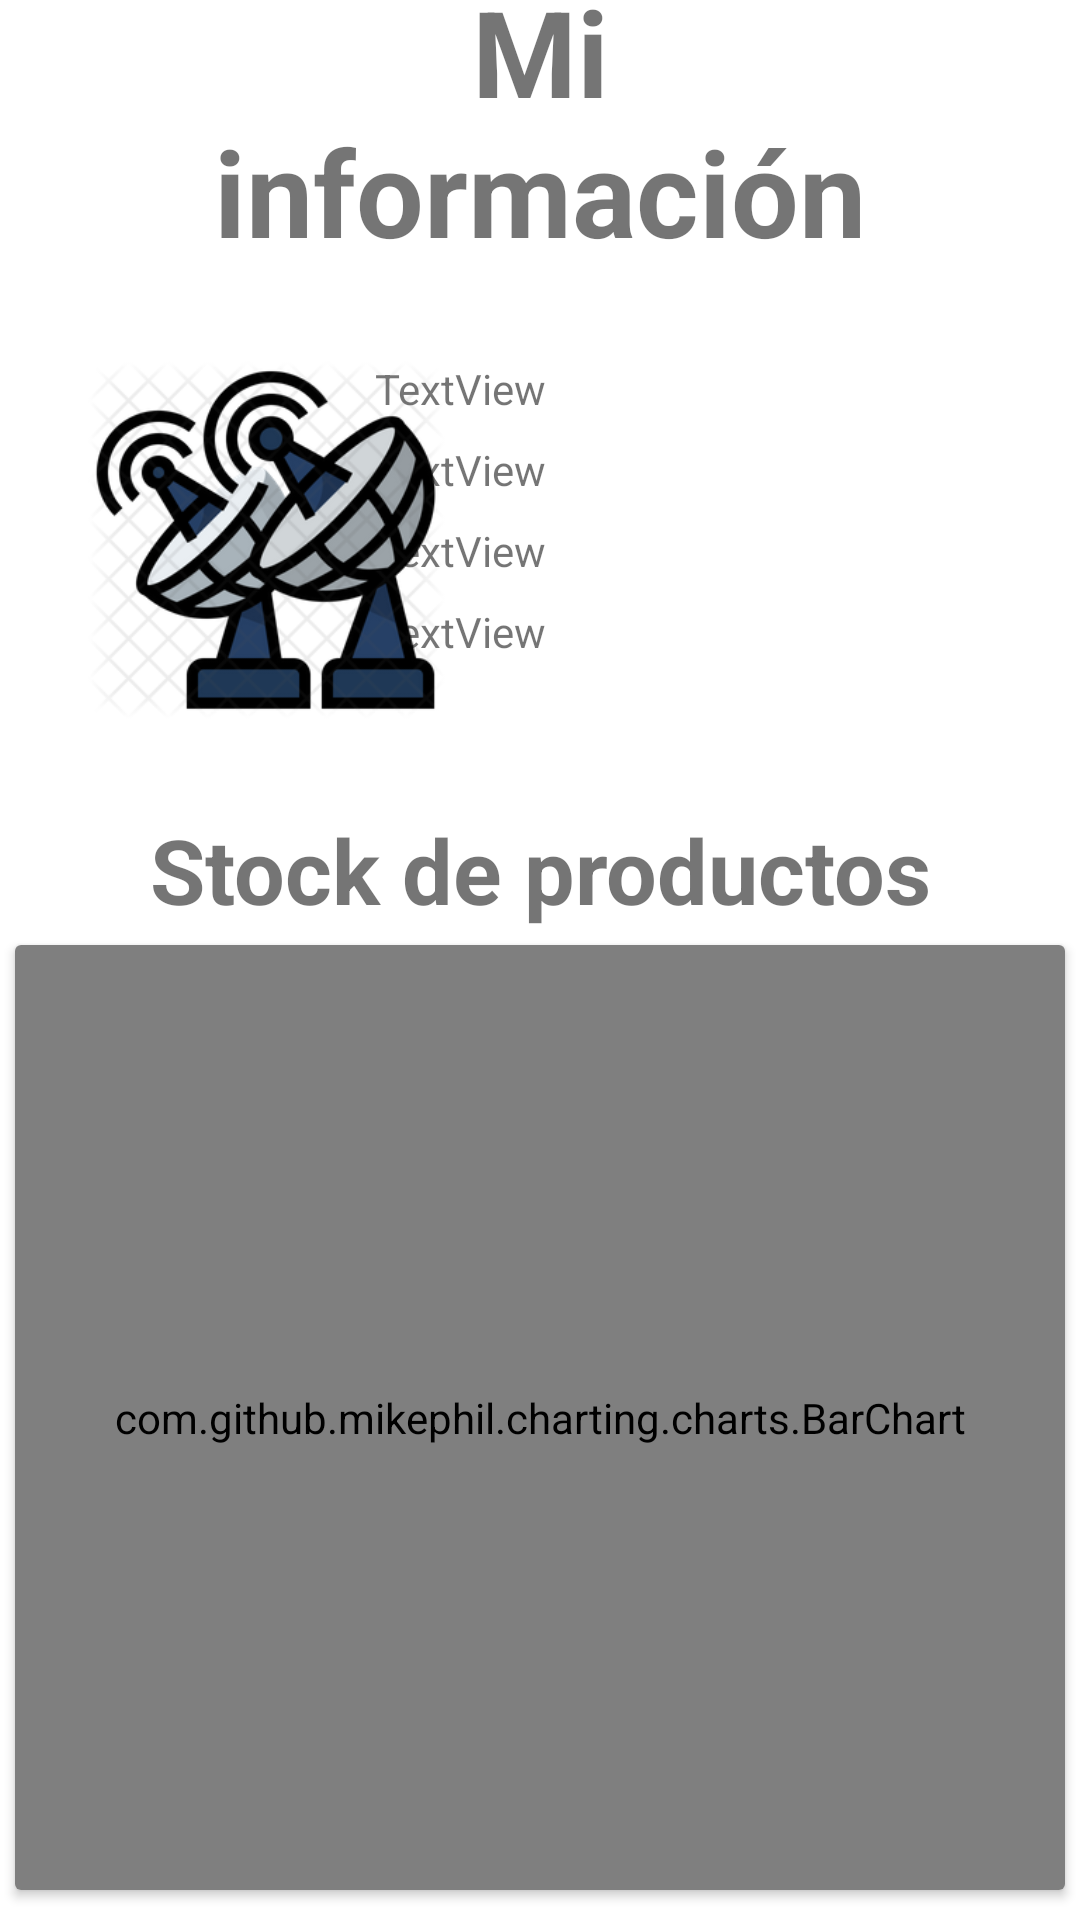

Point at icon controls on the screen. Image size 1080px x 1920px, points as (x=x, y=y).
tele: (x=274, y=540)
